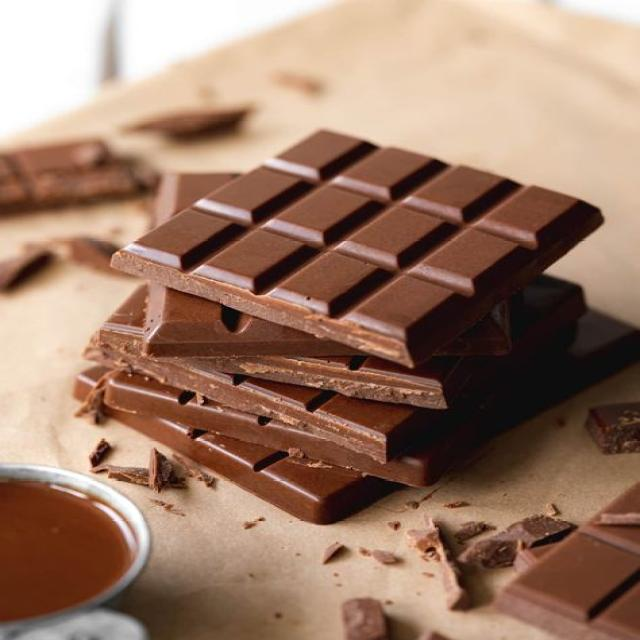Chocolate: (74, 124, 640, 520), (493, 465, 640, 640)
